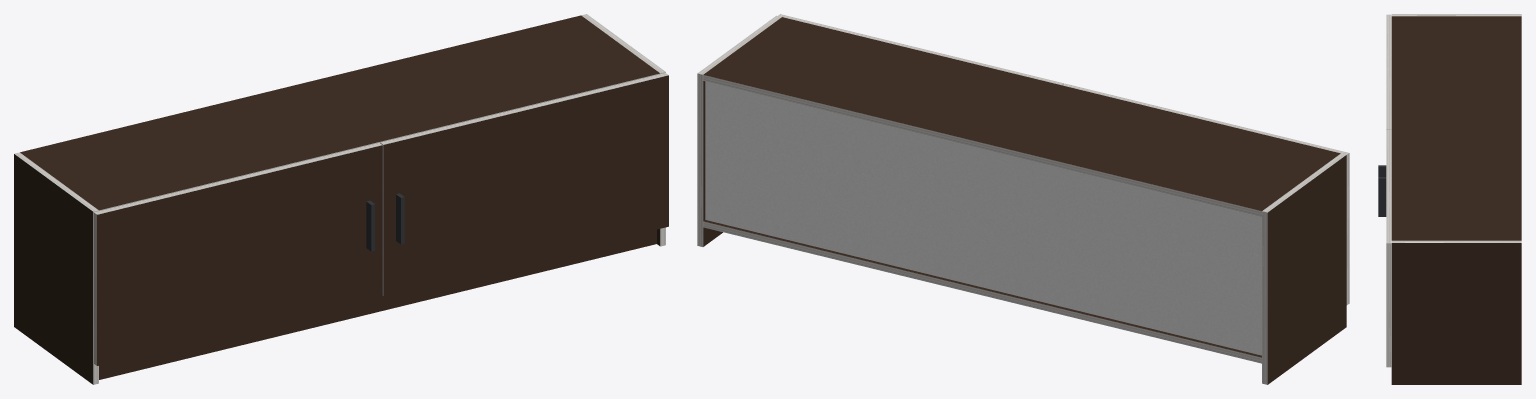
Rendered from BIB-MED-std.glb.
The picture shows the model from 3 angles, left to right: view 1: azimuth 30°, elevation 25°; view 2: azimuth 150°, elevation 25°; view 3: azimuth 270°, elevation 25°; orthographic projection. The views are drawn at different scales.
Parts seen in each view (by area): view 1: top:pbr, door-l:pbr, door-r:pbr, side-l:pbr, plinth:pbr, door-l:sheet:eyJtIjoicGx5Iiwic2lkZSI6ImVkZ2UtbG9uZyIsInNlZWQ, door-r:sheet:eyJtIjoicGx5Iiwic2lkZSI6ImVkZ2UtbG9uZyIsInNlZWQ, pull, top:sheet:eyJtIjoicGx5Iiwic2lkZSI6ImVkZ2UtbG9uZyIsInNlZWQiOj; view 2: back:sheet:eyJtIjoibWRmIiwic2lkZSI6ImZhY2UiLCJzZWVkIjoxLCJ0a, top:pbr, side-l:pbr, bottom:sheet:eyJtIjoicGx5Iiwic2lkZSI6ImVkZ2UtbG9uZyIsInNlZWQ, top:sheet:eyJtIjoicGx5Iiwic2lkZSI6ImVkZ2UtbG9uZyIsInNlZWQiOj, bottom:pbr, side-r:sheet:eyJtIjoicGx5Iiwic2lkZSI6ImVkZ2UtbG9uZyIsInNlZWQ, side-l:sheet:eyJtIjoicGx5Iiwic2lkZSI6ImVkZ2UtbG9uZyIsInNlZWQ, door-l:sheet:eyJtIjoicGx5Iiwic2lkZSI6ImVkZ2UtbG9uZyIsInNlZWQ, door-r:sheet:eyJtIjoicGx5Iiwic2lkZSI6ImVkZ2UtbG9uZyIsInNlZWQ, side-r:pbr, door-l:sheet:eyJtIjoicGx5Iiwic2lkZSI6ImVkZ2UtZW5kIiwic2VlZCI; view 3: top:pbr, side-r:pbr, door-r:sheet:eyJtIjoicGx5Iiwic2lkZSI6ImVkZ2UtZW5kIiwic2VlZCI, door-l:sheet:eyJtIjoicGx5Iiwic2lkZSI6ImVkZ2UtbG9uZyIsInNlZWQ, door-r:sheet:eyJtIjoicGx5Iiwic2lkZSI6ImVkZ2UtbG9uZyIsInNlZWQ, pull, side-l:sheet:eyJtIjoicGx5Iiwic2lkZSI6ImVkZ2UtZW5kIiwic2VlZCI, side-r:sheet:eyJtIjoicGx5Iiwic2lkZSI6ImVkZ2UtZW5kIiwic2VlZCI.
Part boxes in pixels (<box>): top:pbr: <box>20,15,659,210</box>; door-l:pbr: <box>97,145,382,365</box>; door-r:pbr: <box>383,75,668,295</box>; side-l:pbr: <box>14,154,93,384</box>; plinth:pbr: <box>99,229,656,379</box>; door-l:sheet:eyJtIjoicGx5Iiwic2lkZSI6ImVkZ2UtbG9uZyIsInNlZWQ: <box>94,143,382,214</box>; door-r:sheet:eyJtIjoicGx5Iiwic2lkZSI6ImVkZ2UtbG9uZyIsInNlZWQ: <box>381,73,668,144</box>; pull: <box>366,193,404,251</box>; top:sheet:eyJtIjoicGx5Iiwic2lkZSI6ImVkZ2UtbG9uZyIsInNlZWQiOj: <box>99,73,659,210</box>; back:sheet:eyJtIjoibWRmIiwic2lkZSI6ImZhY2UiLCJzZWVkIjoxLCJ0a: <box>705,81,1261,355</box>; top:pbr: <box>703,17,1340,210</box>; side-l:pbr: <box>1267,155,1346,384</box>; bottom:sheet:eyJtIjoicGx5Iiwic2lkZSI6ImVkZ2UtbG9uZyIsInNlZWQ: <box>703,221,1261,363</box>; top:sheet:eyJtIjoicGx5Iiwic2lkZSI6ImVkZ2UtbG9uZyIsInNlZWQiOj: <box>703,75,1261,216</box>; bottom:pbr: <box>703,220,1261,357</box>; side-r:sheet:eyJtIjoicGx5Iiwic2lkZSI6ImVkZ2UtbG9uZyIsInNlZWQ: <box>697,73,703,246</box>; side-l:sheet:eyJtIjoicGx5Iiwic2lkZSI6ImVkZ2UtbG9uZyIsInNlZWQ: <box>1262,211,1267,384</box>; door-l:sheet:eyJtIjoicGx5Iiwic2lkZSI6ImVkZ2UtbG9uZyIsInNlZWQ: <box>1063,83,1348,154</box>; door-r:sheet:eyJtIjoicGx5Iiwic2lkZSI6ImVkZ2UtbG9uZyIsInNlZWQ: <box>778,14,1063,85</box>; side-r:pbr: <box>703,81,722,246</box>; door-l:sheet:eyJtIjoicGx5Iiwic2lkZSI6ImVkZ2UtZW5kIiwic2VlZCI: <box>1346,153,1349,305</box>; top:pbr: <box>1391,16,1521,240</box>; side-r:pbr: <box>1391,243,1521,384</box>; door-r:sheet:eyJtIjoicGx5Iiwic2lkZSI6ImVkZ2UtZW5kIiwic2VlZCI: <box>1386,243,1391,367</box>; door-l:sheet:eyJtIjoicGx5Iiwic2lkZSI6ImVkZ2UtbG9uZyIsInNlZWQ: <box>1386,14,1391,128</box>; door-r:sheet:eyJtIjoicGx5Iiwic2lkZSI6ImVkZ2UtbG9uZyIsInNlZWQ: <box>1386,129,1391,243</box>; pull: <box>1378,165,1386,216</box>; side-l:sheet:eyJtIjoicGx5Iiwic2lkZSI6ImVkZ2UtZW5kIiwic2VlZCI: <box>1391,14,1521,16</box>; side-r:sheet:eyJtIjoicGx5Iiwic2lkZSI6ImVkZ2UtZW5kIiwic2VlZCI: <box>1391,240,1521,242</box>.
Bounding box in the file's own units: 1.8 × 0.52 × 0.4769.
Materials: 34 (23 with a texture image).
